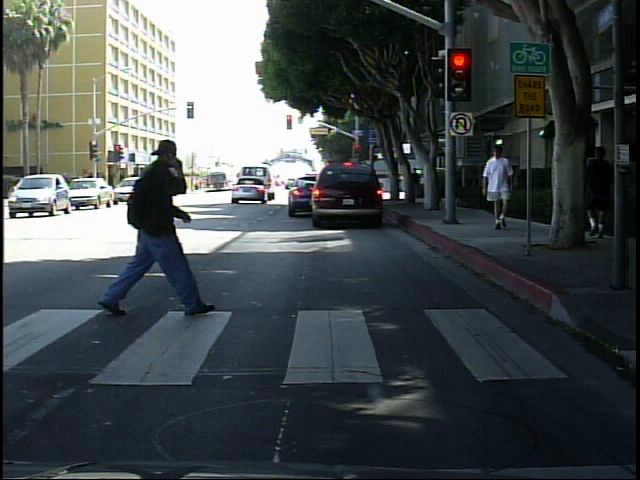person: (97, 123, 209, 337), (480, 145, 519, 240), (584, 137, 617, 246)
